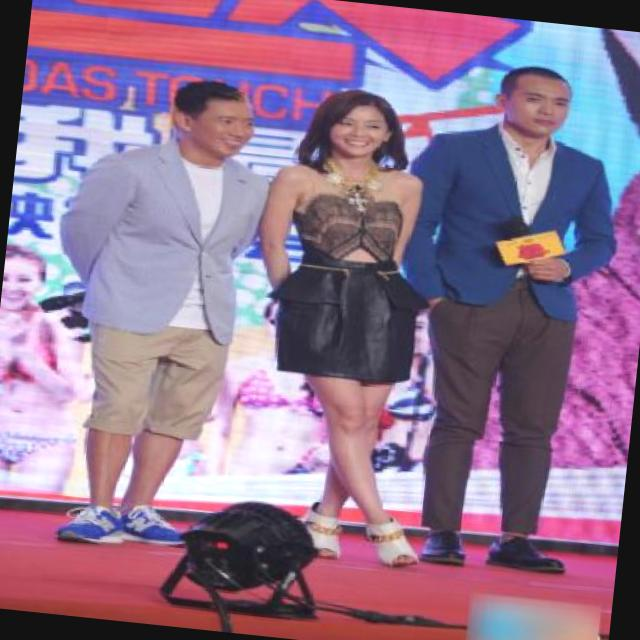Person: (376, 38, 640, 596), (16, 56, 265, 581), (226, 70, 470, 590)
